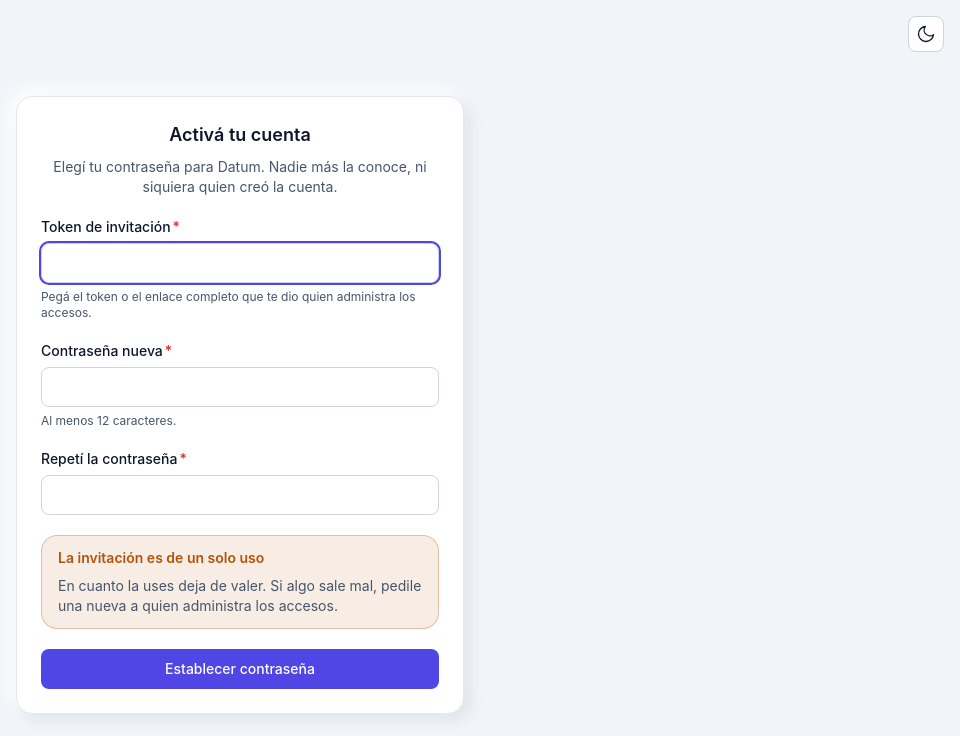
Test: AcceptInvitationPage — el token no se queda en la URL › un enlace completo pegado en el campo manda solo el token
Type "https://gateway.example.com/invitacion#token=tok_pegado_123456" into the field labelled "Token de invitación*" at (240, 263), box 41,243 -> 439,283
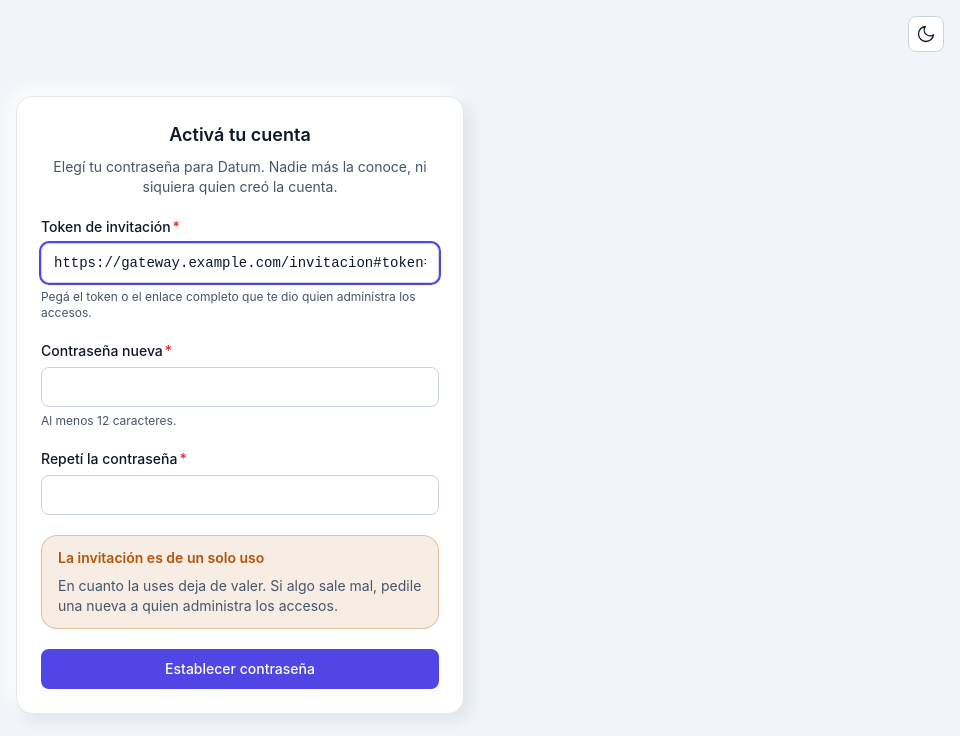
Type "una-clave-larga-123" into the password field labelled "Contraseña nueva*" at (240, 387), box 41,367 -> 439,407
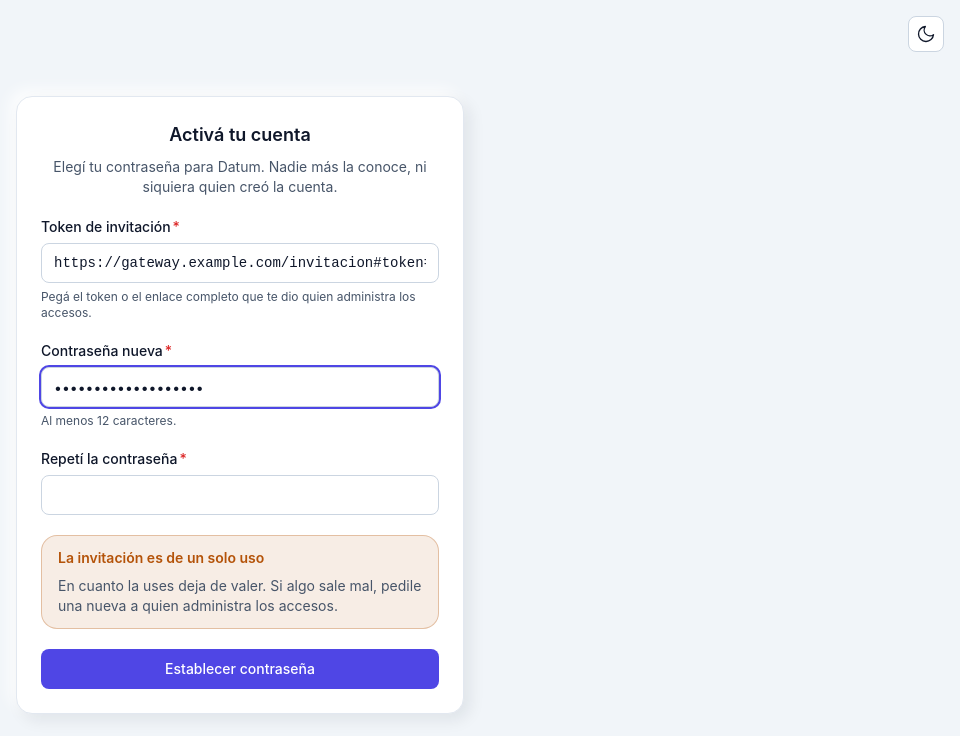
Type "una-clave-larga-123" into the password field labelled "Repetí la contraseña*" at (240, 495), box 41,475 -> 439,515
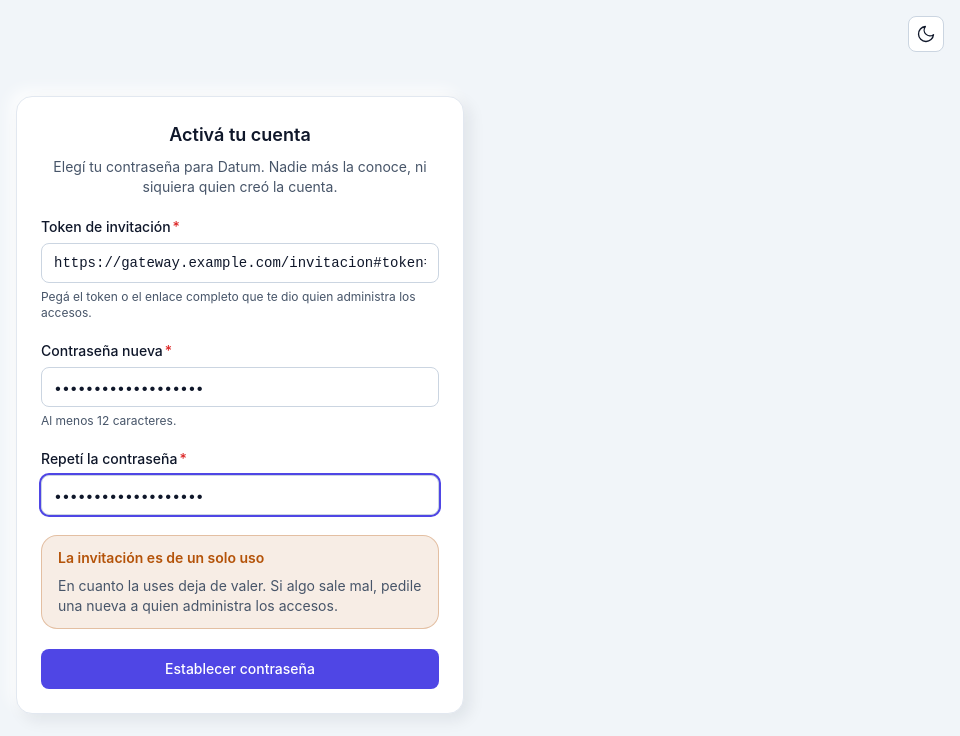
Click the button "Establecer contraseña" at (240, 669), box 41,649 -> 439,689
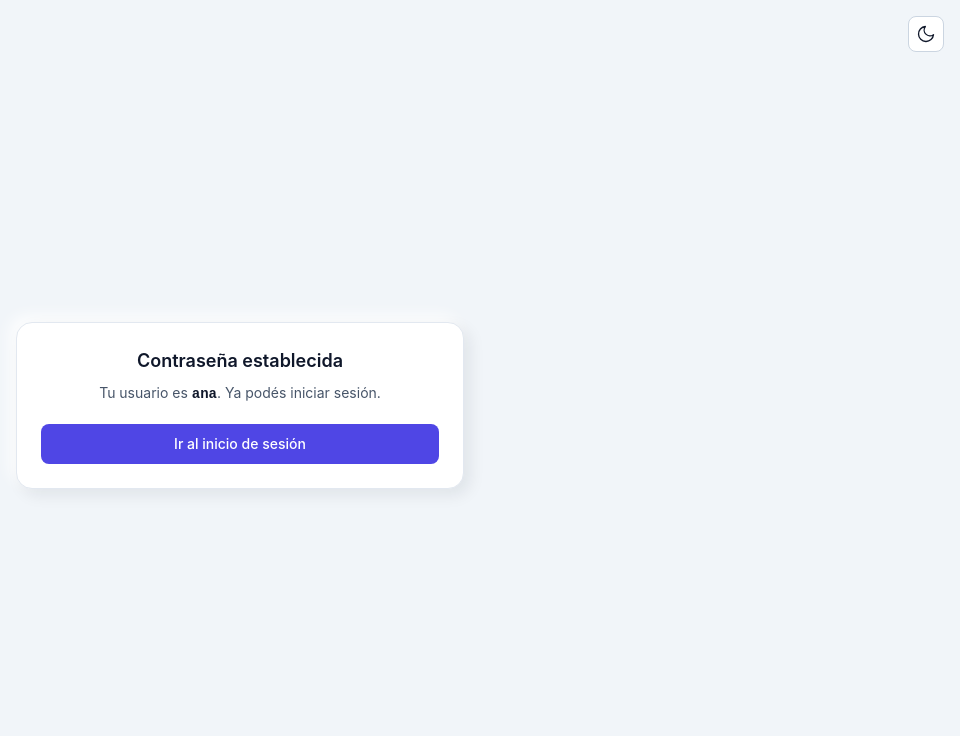
Expected: the heading "Contraseña establecida" is shown, 137,350 -> 343,370
